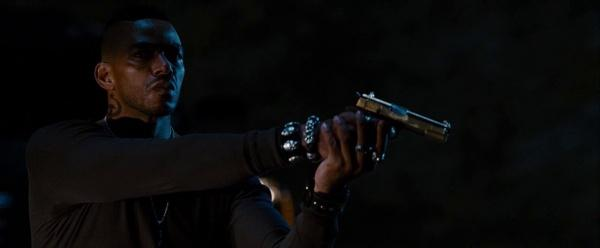Gun: (352, 86, 453, 145)
